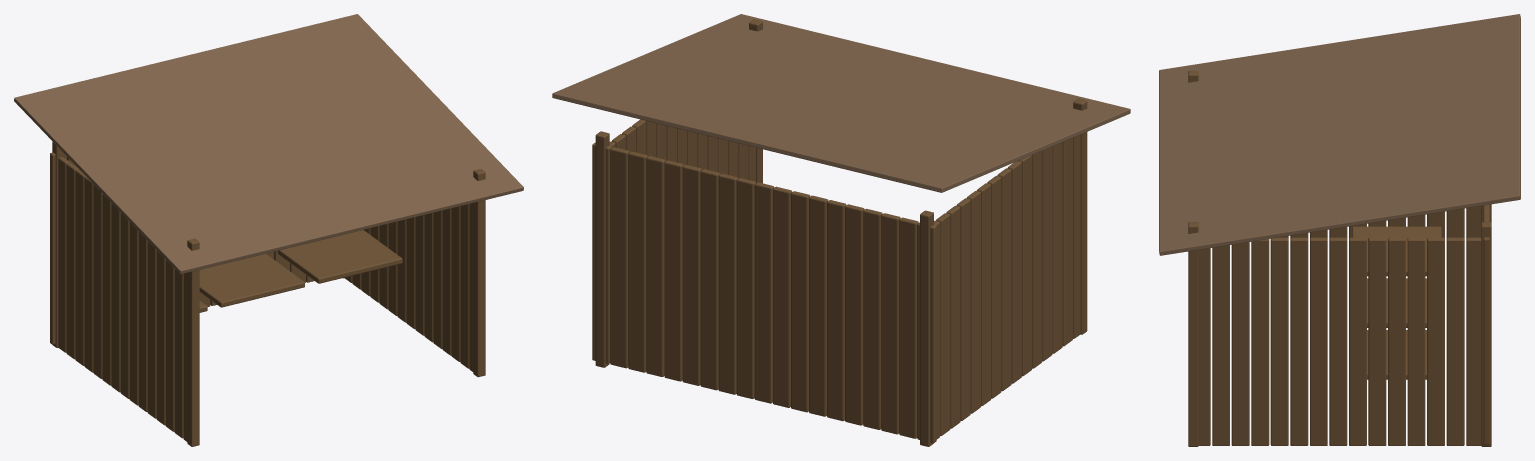
File: SupplyShed.fbx
3 renders of one model, left to right at view 1: azimuth 30°, elevation 25°; view 2: azimuth 150°, elevation 25°; view 3: azimuth 270°, elevation 25°, orthographic. The views are drawn at different scales.
Parts seen in each view (by area): view 1: SupplyShed; view 2: SupplyShed; view 3: SupplyShed.
Boxes of the visible parts, x1,y1,x2,y2 form: SupplyShed: (14,14,523,446); SupplyShed: (552,14,1130,446); SupplyShed: (1159,14,1520,446).
Size of the model in its own units: 529 by 444 by 359.
